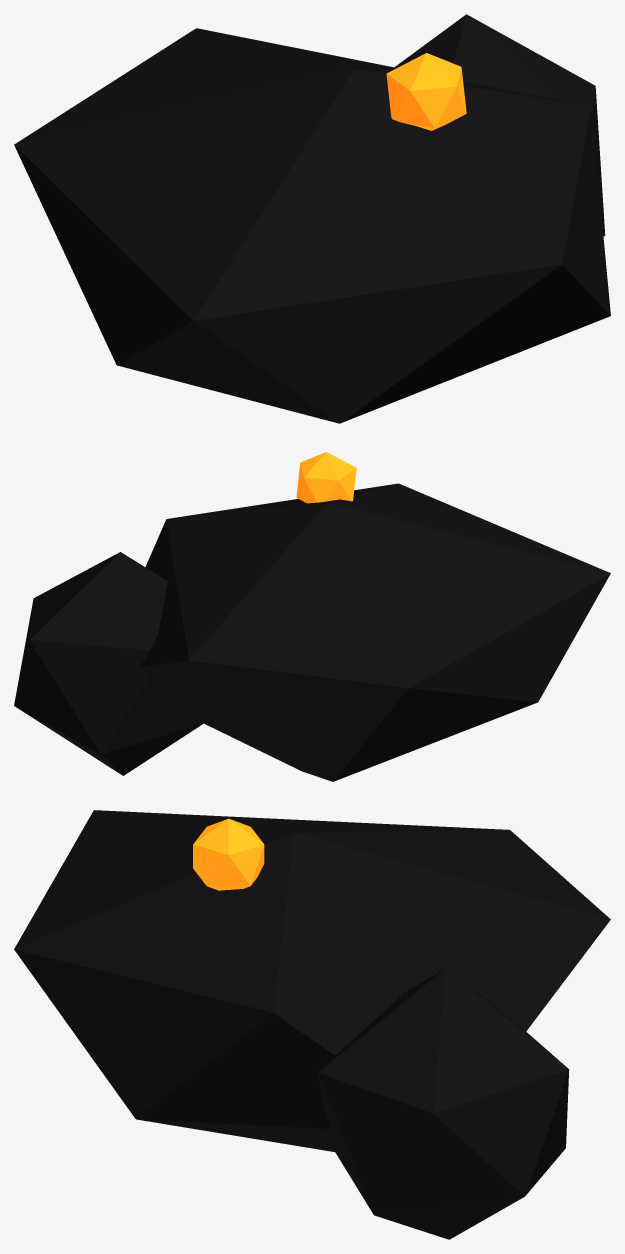
The model's file is coal_pile.glb.
3 renders of one model, top to bottom at view 1: azimuth 30°, elevation 25°; view 2: azimuth 150°, elevation 25°; view 3: azimuth 270°, elevation 25°, orthographic. The views are drawn at different scales.
Visible parts, largest first — view 1: coal_pile; view 2: coal_pile; view 3: coal_pile.
Boxes of the visible parts, bbox=[...] form: coal_pile: bbox=[14, 14, 610, 423]; coal_pile: bbox=[14, 452, 610, 781]; coal_pile: bbox=[14, 810, 610, 1239].
Size of the model in its own units: 0.898 by 0.5587 by 0.8566.
